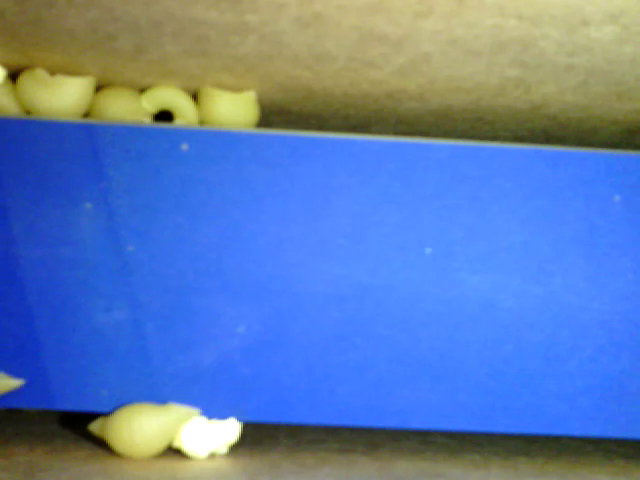elbow: (141, 84, 200, 125)
shell: (88, 398, 201, 458), (15, 65, 97, 120), (197, 82, 260, 129), (89, 86, 152, 125)
